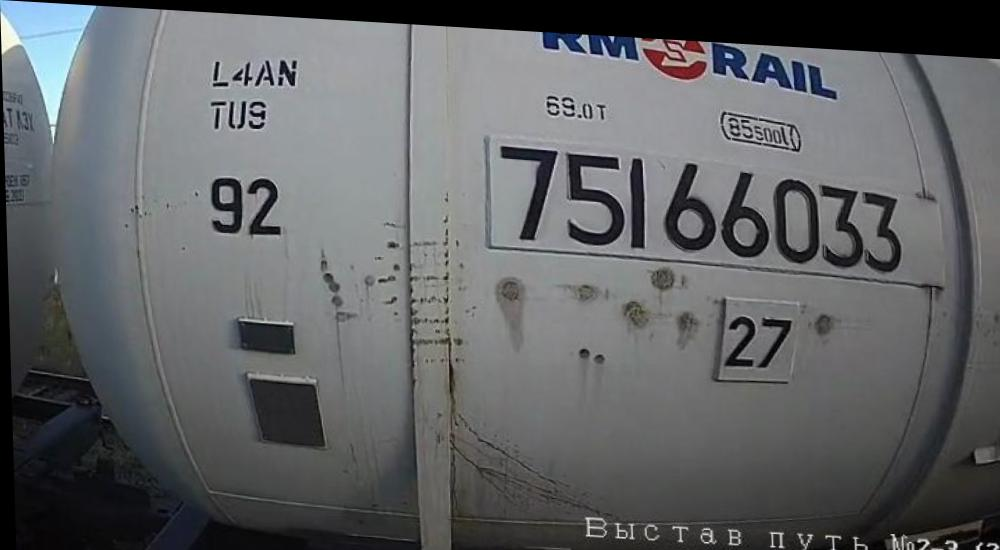Wagon-number: (489, 130, 905, 270)
